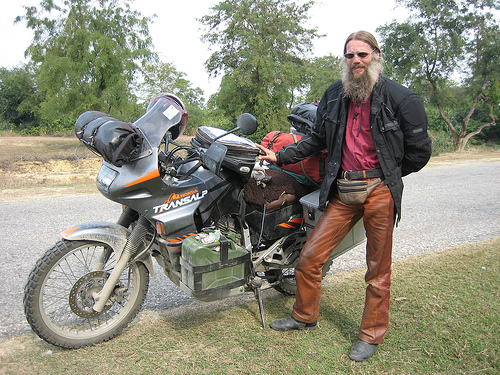without_mask: (343, 35, 380, 83)
